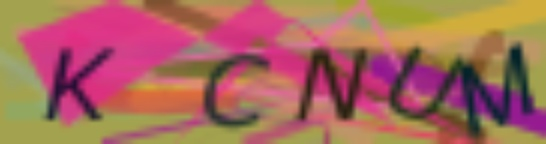C: (200, 49, 273, 129)
K: (40, 45, 115, 123)
M: (459, 40, 537, 135)
N: (295, 46, 369, 125)
U: (388, 45, 464, 120)
